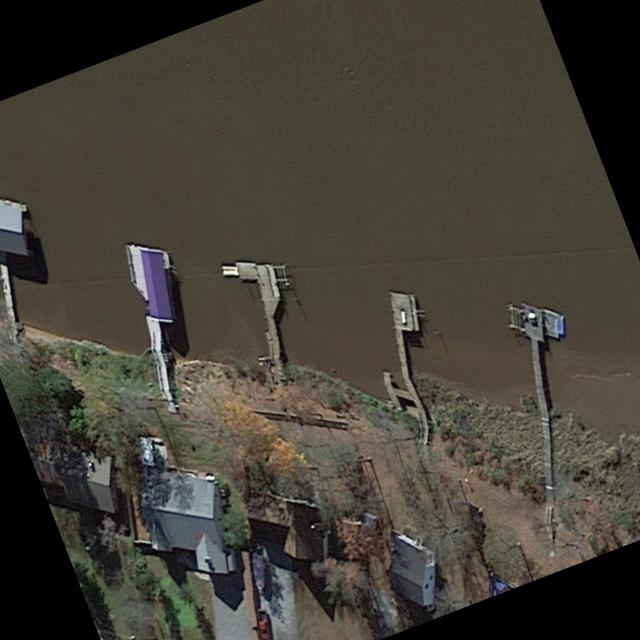small-vehicle: (254, 607, 272, 640)
